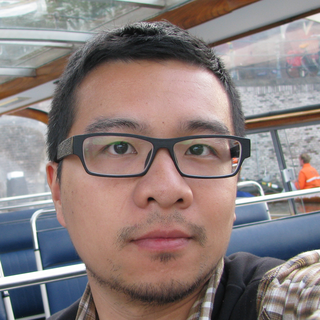eye: (181, 139, 222, 166), (97, 139, 142, 163)
